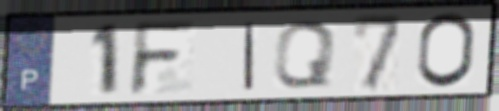1: (88, 21, 122, 99)
7: (351, 10, 404, 94)
F: (126, 18, 200, 98)
I: (241, 20, 259, 92)
O: (413, 10, 479, 91)
Q: (270, 19, 339, 91)
